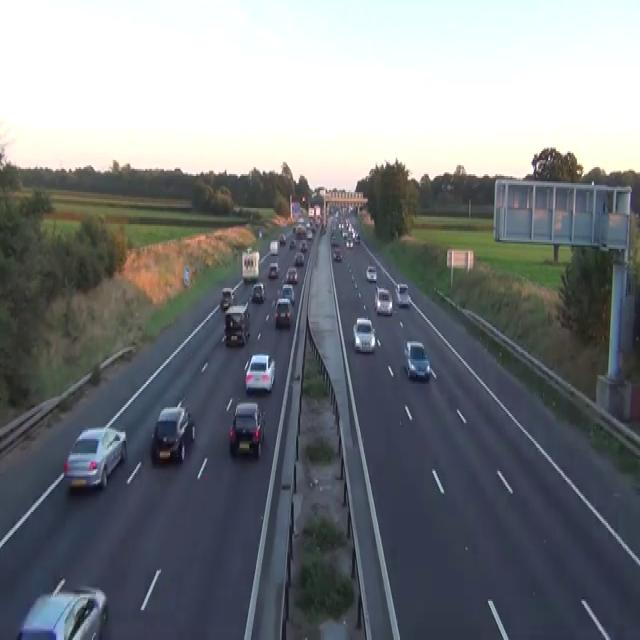Car: (16, 576, 108, 638), (63, 425, 126, 489), (151, 398, 195, 464), (229, 400, 265, 457), (330, 213, 360, 263), (244, 352, 275, 393), (224, 302, 250, 347), (404, 340, 430, 380), (352, 316, 375, 352), (273, 297, 291, 327), (225, 302, 249, 324), (374, 286, 392, 315), (395, 282, 410, 306), (220, 286, 234, 310), (250, 281, 265, 302), (281, 284, 295, 304), (286, 266, 298, 282), (366, 265, 377, 281), (268, 262, 279, 278), (332, 247, 342, 261), (294, 251, 304, 265), (296, 224, 306, 238), (269, 240, 278, 254), (220, 295, 229, 309), (330, 229, 338, 242), (330, 237, 339, 247), (320, 222, 326, 235), (289, 238, 296, 249), (300, 240, 307, 251), (345, 238, 353, 247), (279, 233, 286, 243), (446, 182, 454, 190), (354, 233, 360, 242), (297, 217, 304, 224), (306, 230, 312, 238), (292, 224, 297, 233), (258, 228, 262, 238), (342, 230, 347, 238)
Truck: (241, 247, 259, 283), (290, 201, 301, 219)
